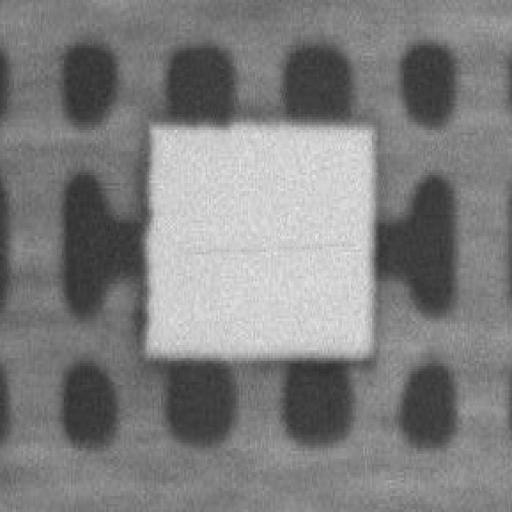DIE_CRACK: (265, 161, 512, 167)
